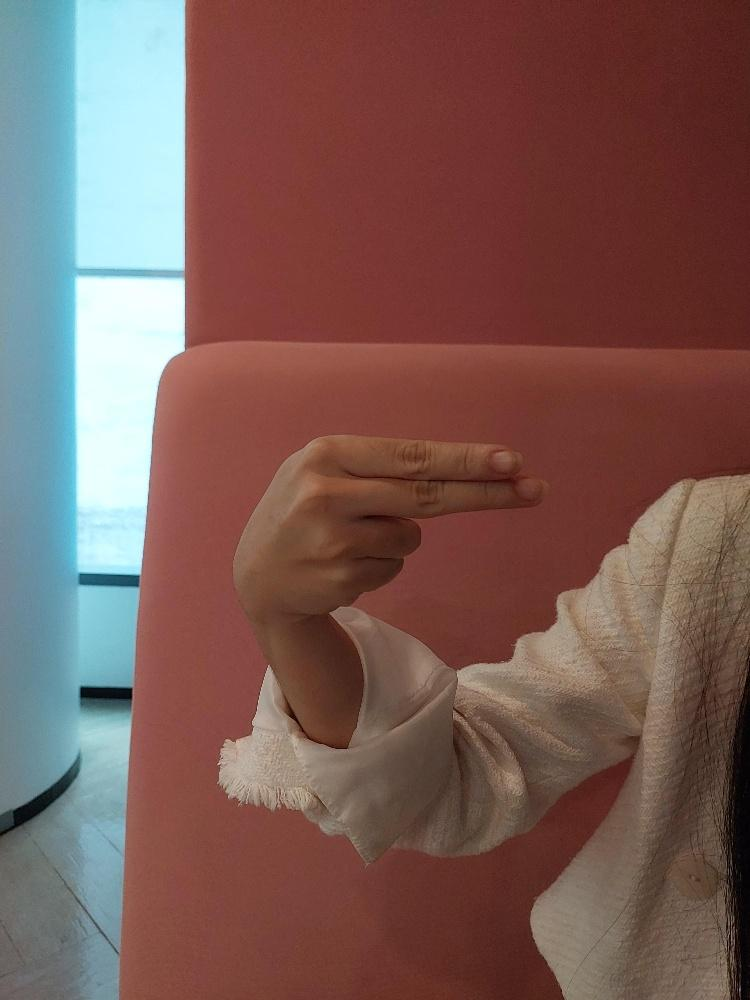h: (231, 430, 548, 615)
